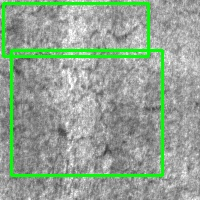crazing: (11, 50, 162, 175), (3, 3, 148, 56)
